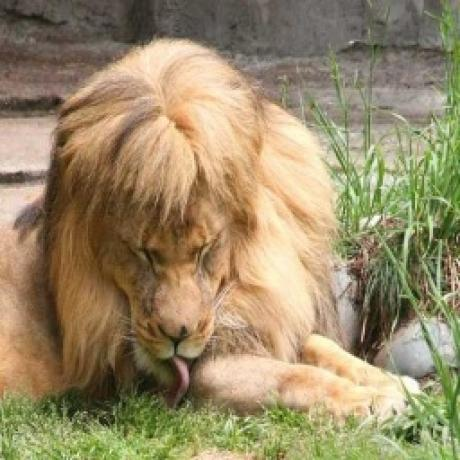Lion: (1, 33, 422, 422)
